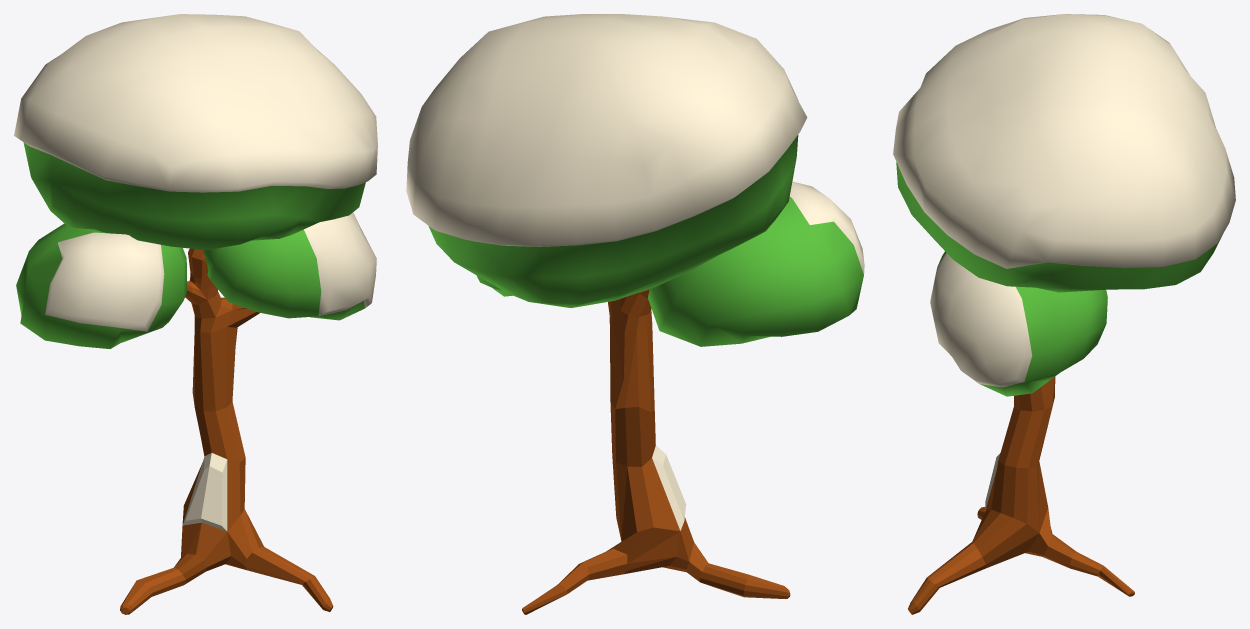
Rendered from Tree_14_Winter.fbx.
The picture shows the model from 3 angles, left to right: view 1: azimuth 30°, elevation 25°; view 2: azimuth 150°, elevation 25°; view 3: azimuth 270°, elevation 25°; orthographic projection. The views are drawn at different scales.
Parts seen in each view (by area): view 1: Tree_14_p2_Winter, Tree_14_p1_Winter; view 2: Tree_14_p2_Winter, Tree_14_p1_Winter; view 3: Tree_14_p2_Winter, Tree_14_p1_Winter.
Part boxes in pixels (x1,y1,x2,y2): Tree_14_p2_Winter: [14, 14, 377, 348]; Tree_14_p1_Winter: [120, 248, 333, 614]; Tree_14_p2_Winter: [406, 14, 864, 346]; Tree_14_p1_Winter: [522, 289, 790, 614]; Tree_14_p2_Winter: [893, 14, 1235, 396]; Tree_14_p1_Winter: [908, 376, 1134, 614].
Size of the model in its own units: 445 by 638 by 364.
